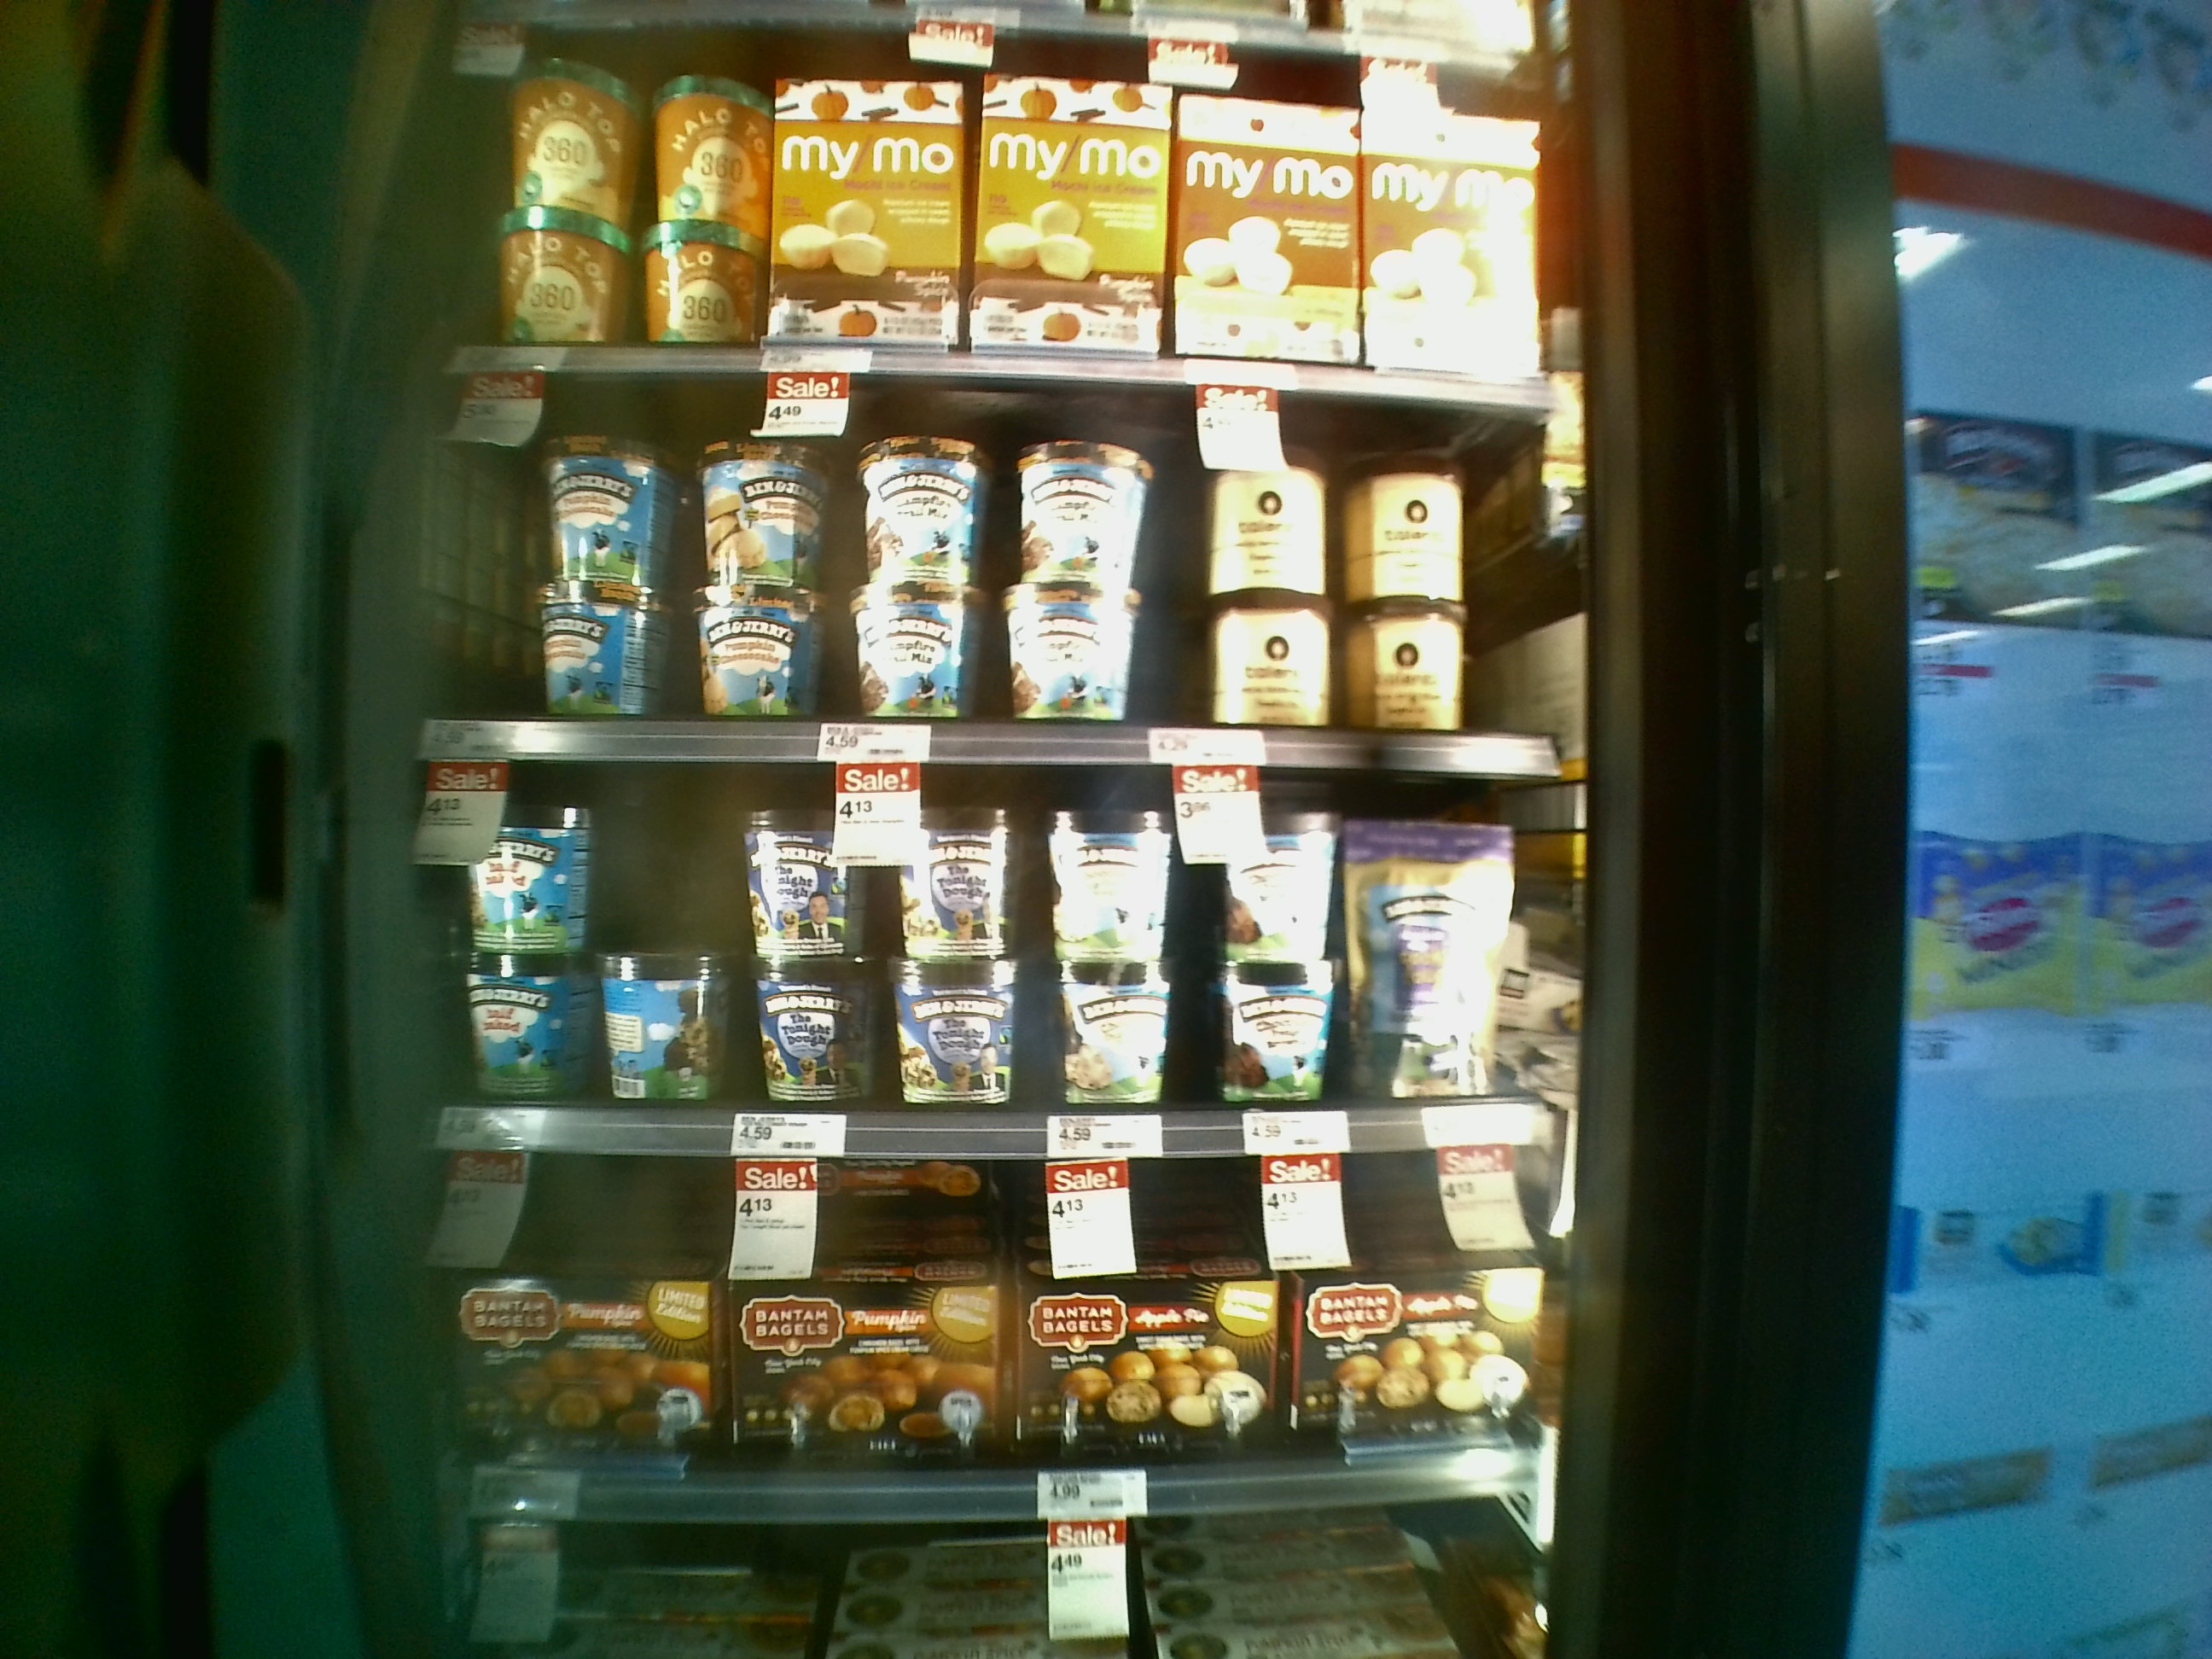shelf: (387, 742, 1588, 1157), (402, 368, 1597, 779), (340, 1121, 1566, 1513)
